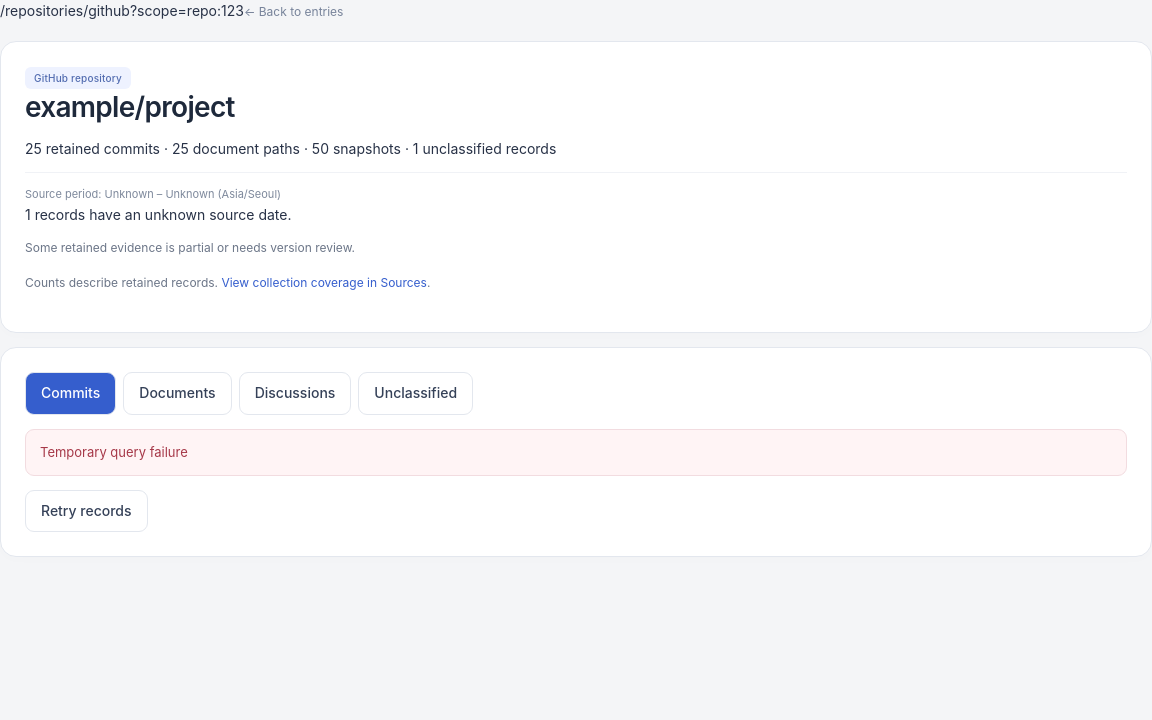
Scenario: shows retry and recovers a failed records request
Click the button "Retry records" at coordinates (86, 511), box left=25, top=490, right=148, bottom=532
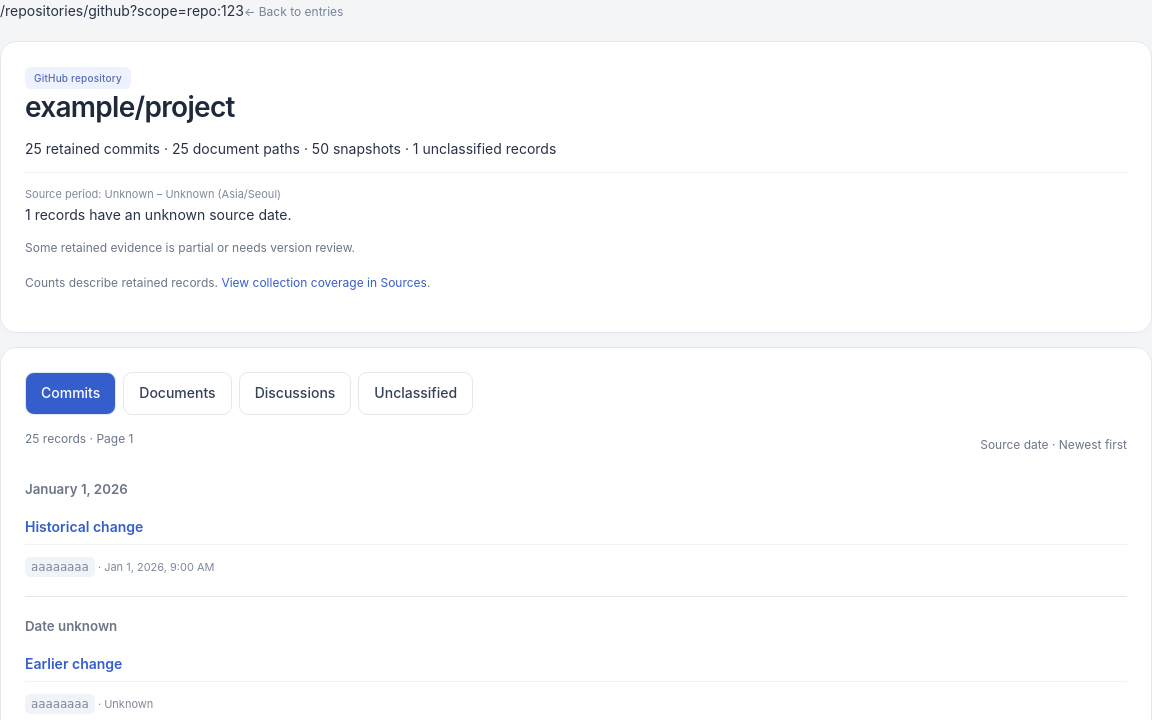
Expected: the link "Historical change" is shown, left=25, top=518, right=143, bottom=535
